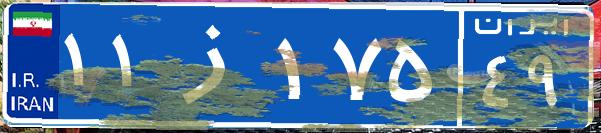1: (273, 28, 330, 110), (57, 26, 110, 107), (110, 28, 158, 105)
4: (475, 38, 525, 113)
5: (385, 28, 445, 110)
7: (330, 28, 385, 110)
9: (525, 38, 570, 115)
ز: (158, 15, 273, 115)
